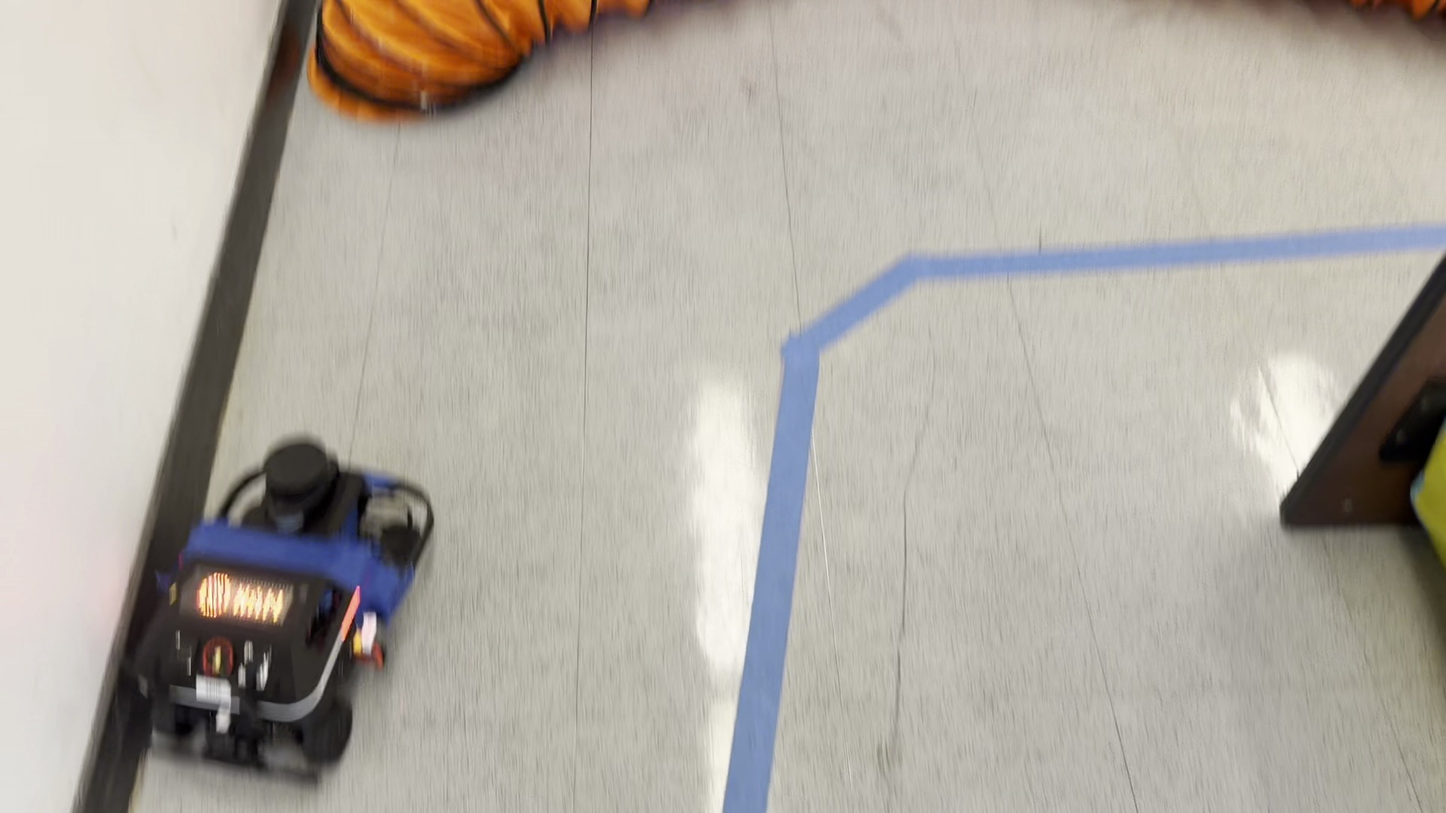racecar: (146, 438, 434, 774)
